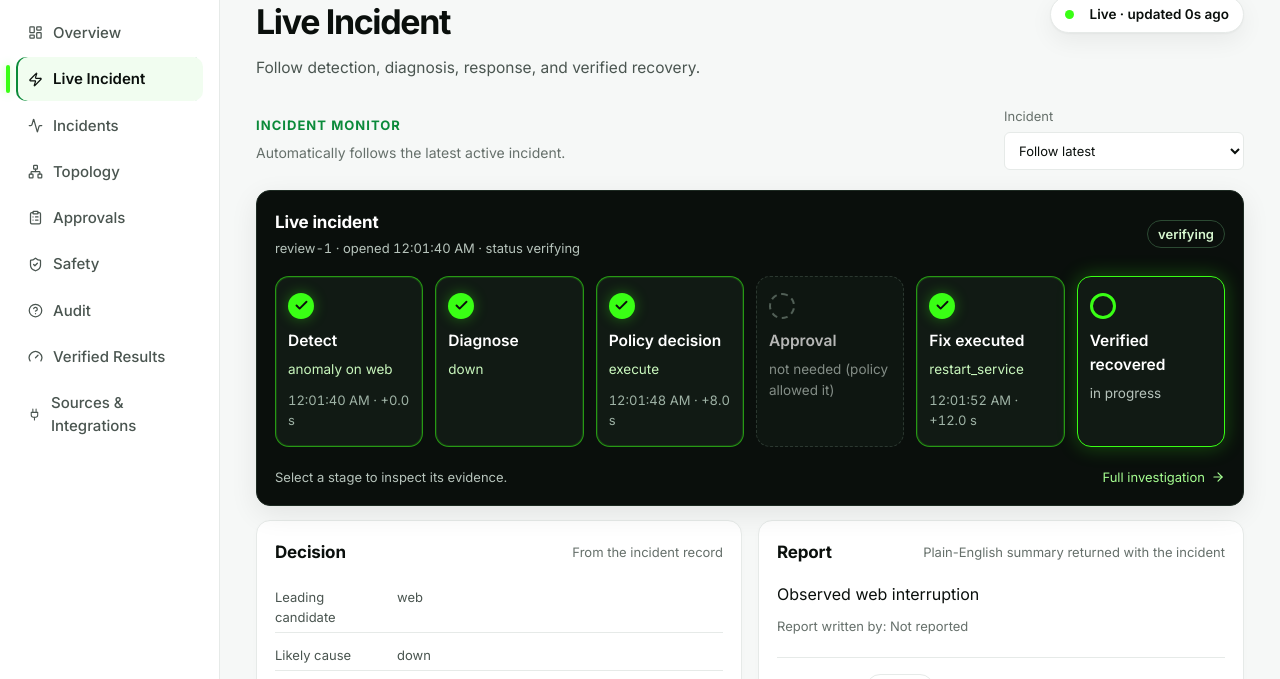
Test: presentation and data integrity › lets the presenter inspect stages and all evidence items
Expected: the text "Observed web interruption" is shown, [777,584,979,604]
Click the button with aria-label "Inspect Fix executed". click: (990, 362)
box: [917,277,1064,446]
(page scrolled)
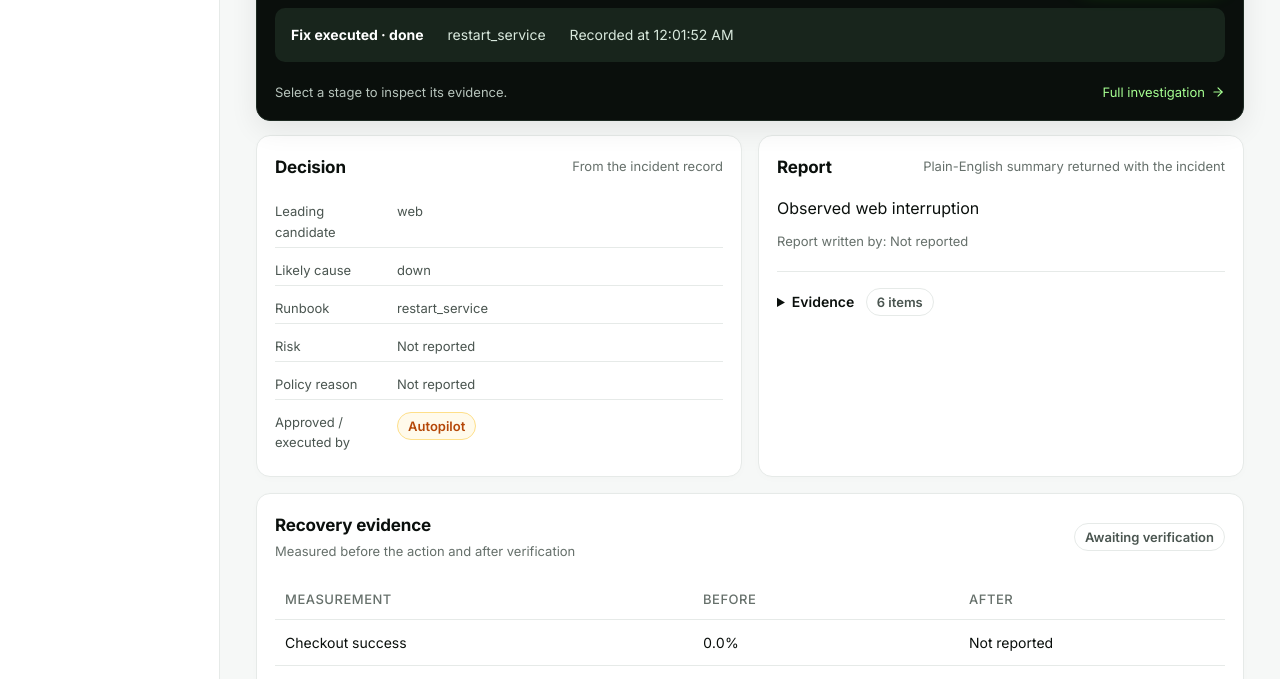
Expected: the text "Fix executed · done" is shown, [291,24,424,46]
Click the heading "Evidence 6 items". click: (863, 302)
box: [792,288,934,316]
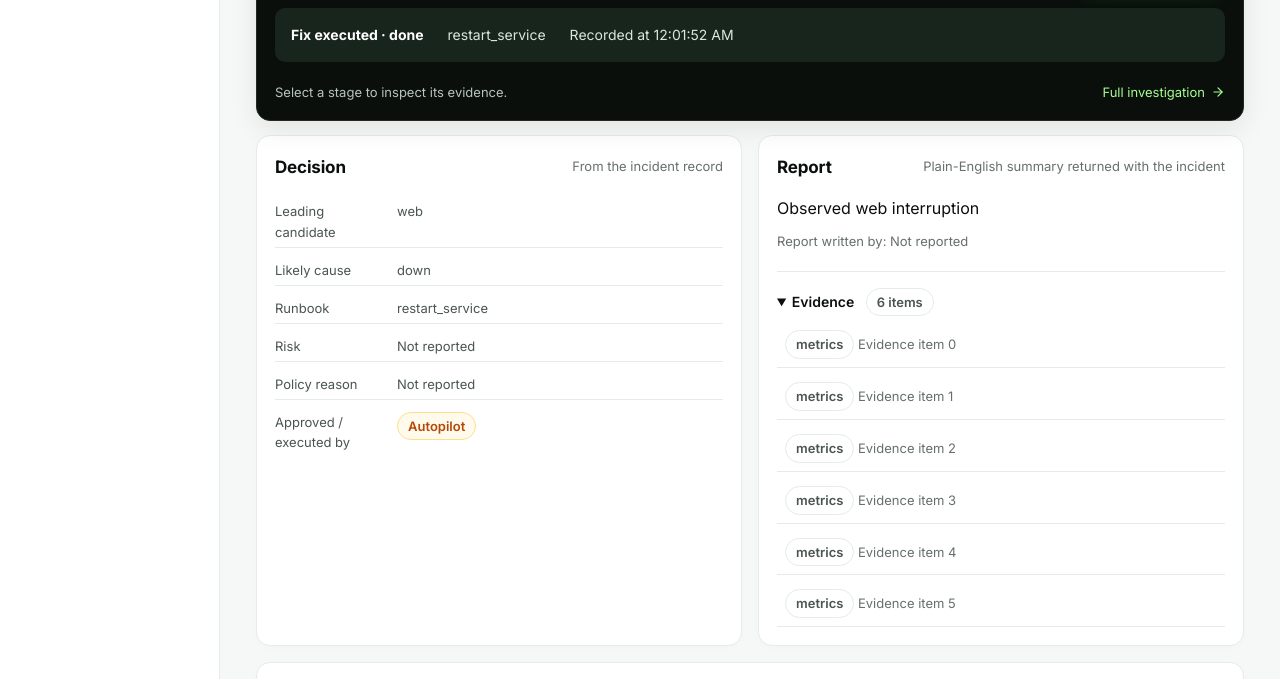
Expected: the list item "Evidence item 5" is shown, [858,595,956,611]
